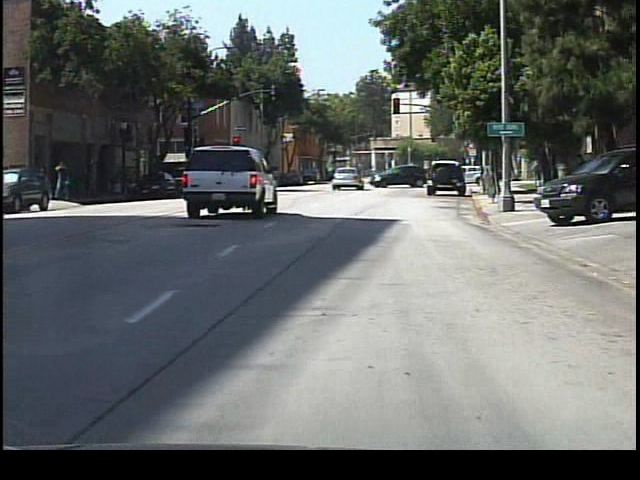person: (54, 157, 77, 205), (326, 162, 343, 188), (480, 155, 496, 182)
